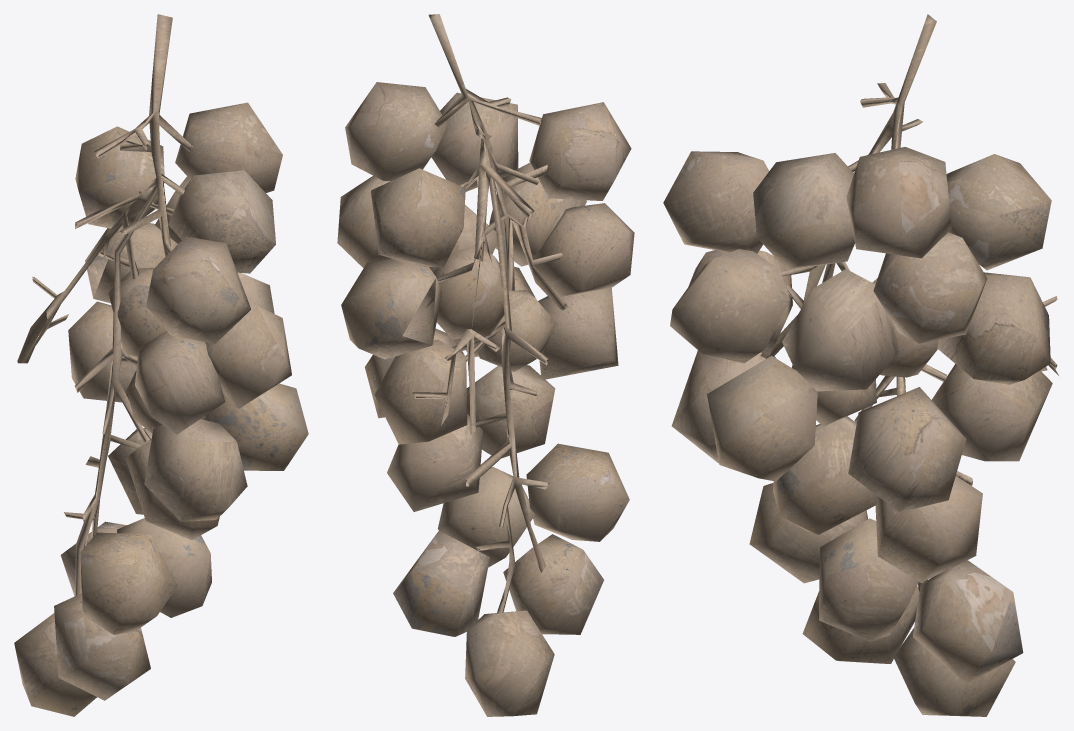
The model's file is Grape-R.fbx.
3 renders of one model, left to right at view 1: azimuth 30°, elevation 25°; view 2: azimuth 150°, elevation 25°; view 3: azimuth 270°, elevation 25°, orthographic. The views are drawn at different scales.
Visible parts, largest first — view 1: Grapes-R; view 2: Grapes-R; view 3: Grapes-R.
Boxes of the visible parts, bbox=[...] form: Grapes-R: bbox=[14, 14, 308, 716]; Grapes-R: bbox=[337, 14, 634, 716]; Grapes-R: bbox=[663, 14, 1058, 716].
Bounding box in the file's own units: 6 × 16.17 × 7.78.
